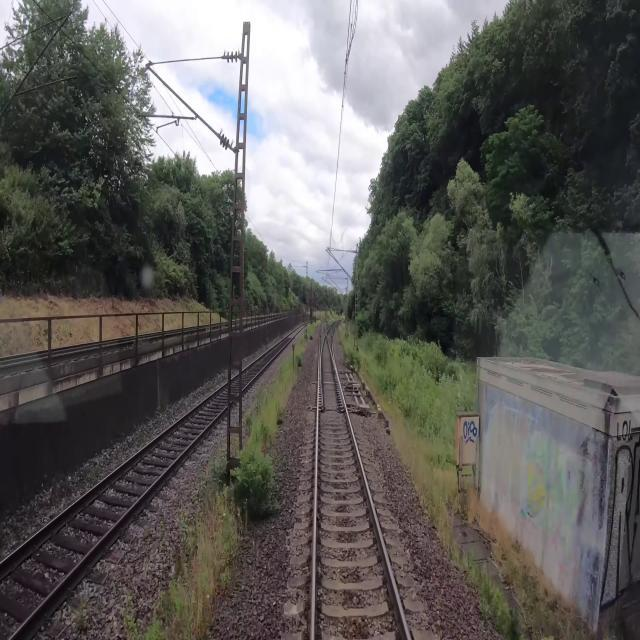Plant: (122, 455, 249, 639), (242, 350, 302, 454), (230, 446, 280, 516)
